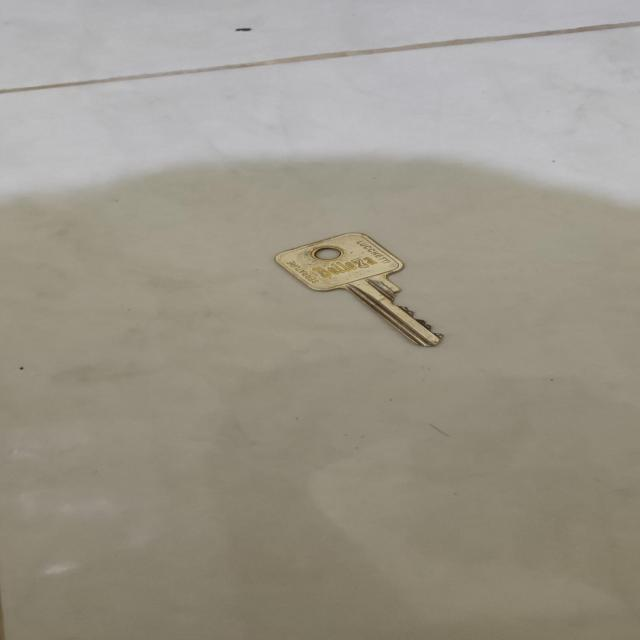kunci_kos: (251, 231, 473, 351)
